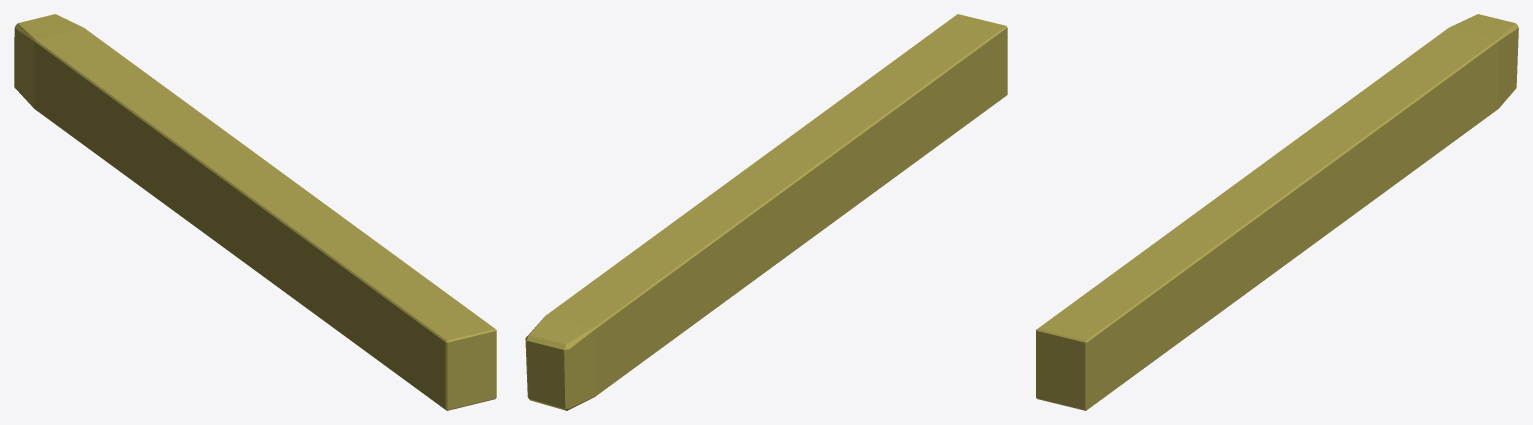
Rendered from Frame.fbx.
3 renders of one model, left to right at view 1: azimuth 30°, elevation 25°; view 2: azimuth 150°, elevation 25°; view 3: azimuth 330°, elevation 25°, orthographic.
Visible parts, largest first — view 1: Frame2; view 2: Frame2; view 3: Frame2.
Boxes of the visible parts, <box> form: Frame2: <box>14,14,496,410</box>; Frame2: <box>525,14,1007,410</box>; Frame2: <box>1036,14,1518,410</box>.
Bounding box in the file's own units: 0.7621 × 1 × 11.31.
